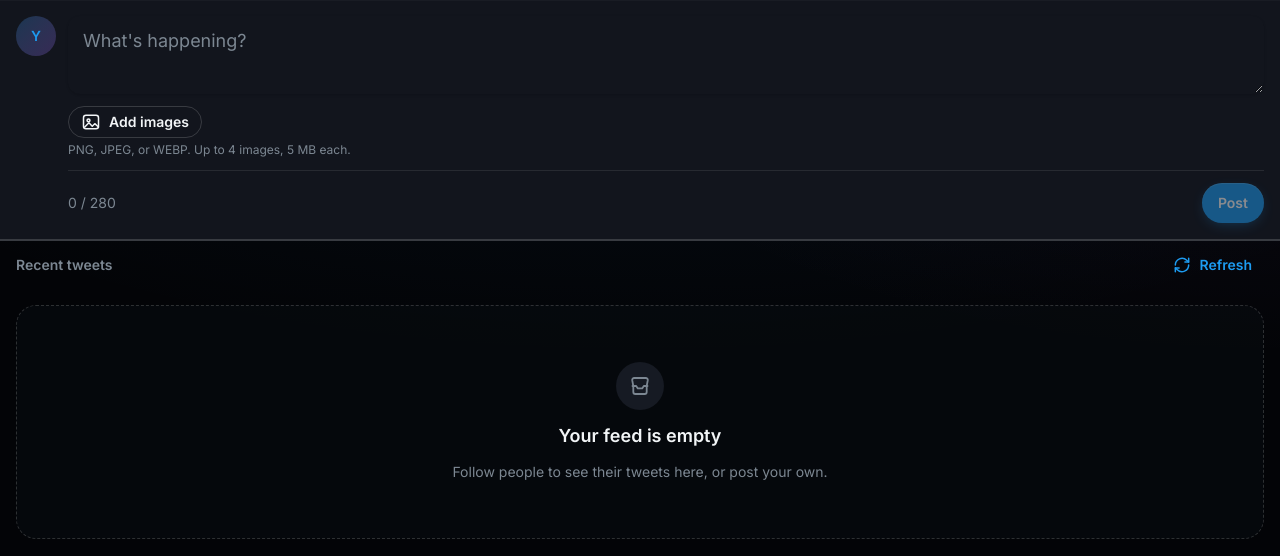
Test: Feed › prepends a newly-posted tweet to the feed without an extra GET
The width and height of the screenshot is (1280, 556).
Expected: the text "Your feed is empty" is shown, [558,422,721,450]
Type "Hello from the feed" into the text box labelled "What's happening?" at (666, 55), box [68,16,1264,94]
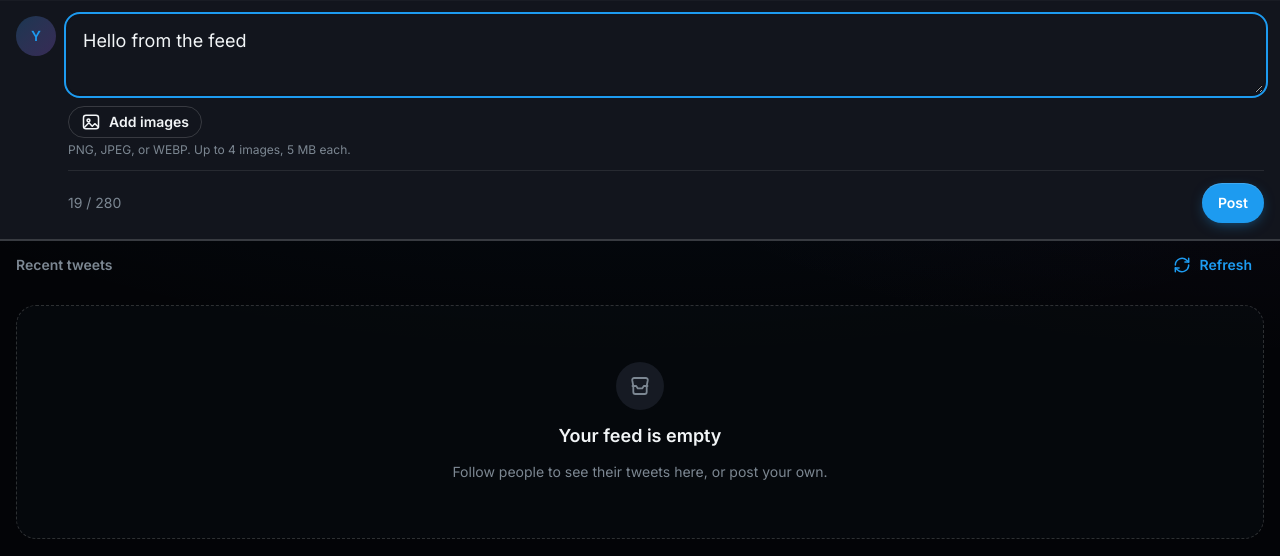
Click the button "Post" at (1233, 203), box [1202,183,1264,223]
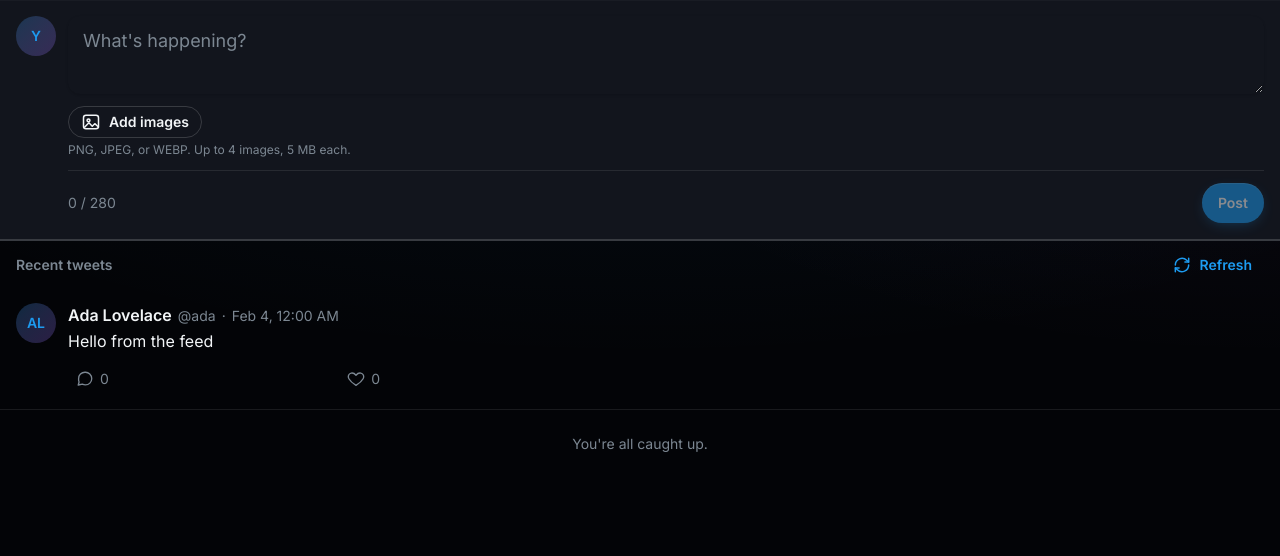
Now the text "Hello from the feed" is shown, box [68,331,213,351]
Now the text "Your feed is empty" is gone
